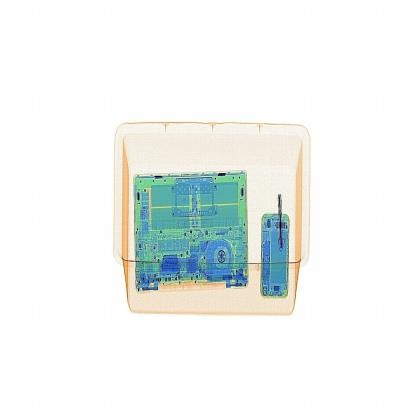knife: (276, 194, 286, 251)
